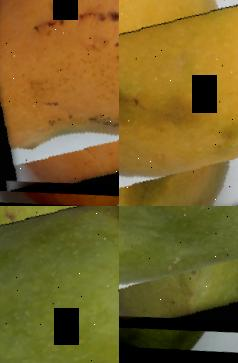PartiallyRipe: (119, 0, 238, 206)
Ripe: (0, 0, 119, 196)
Unripe: (0, 206, 119, 363), (119, 206, 238, 333)
